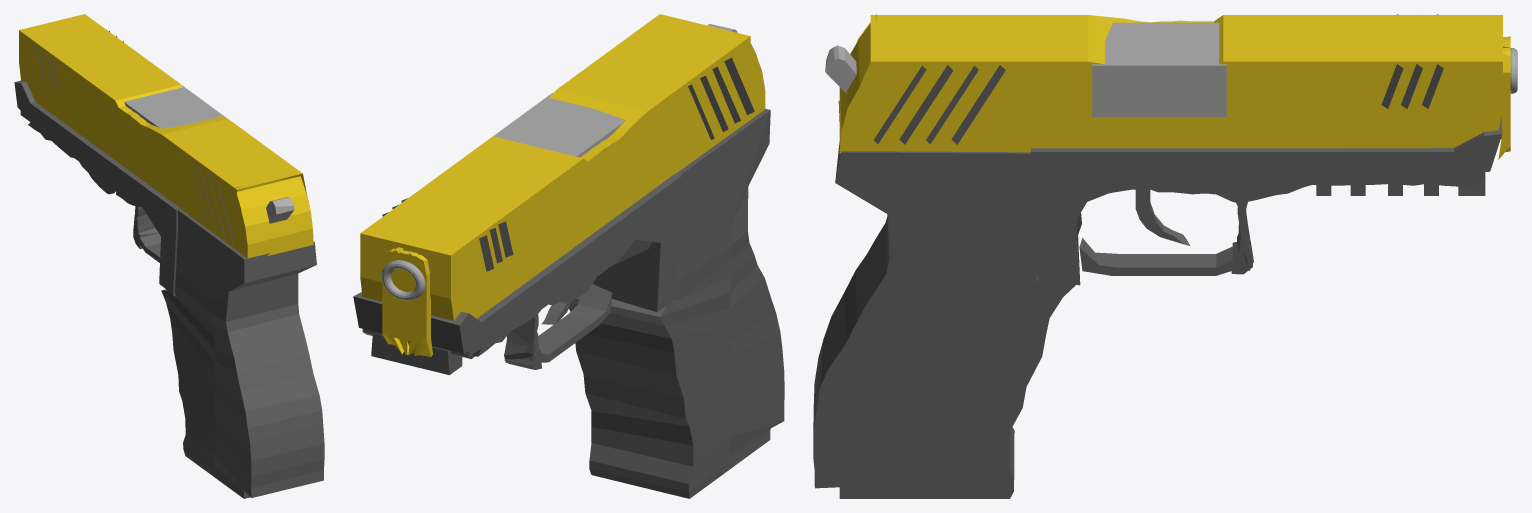
File: yellow gun 1.fbx
3 views of the same model, side by side, from view 1: azimuth 30°, elevation 25°; view 2: azimuth 150°, elevation 25°; view 3: azimuth 270°, elevation 25° (orthographic). The views are drawn at different scales.
Parts seen in each view (by area): view 1: Cube; view 2: Cube; view 3: Cube.
Boxes of the visible parts, left/top/right/bottom form: Cube: left=14, top=14, right=324, bottom=498; Cube: left=353, top=14, right=784, bottom=498; Cube: left=813, top=14, right=1517, bottom=498.
Size of the model in its own units: 86.09 by 323 by 472.
